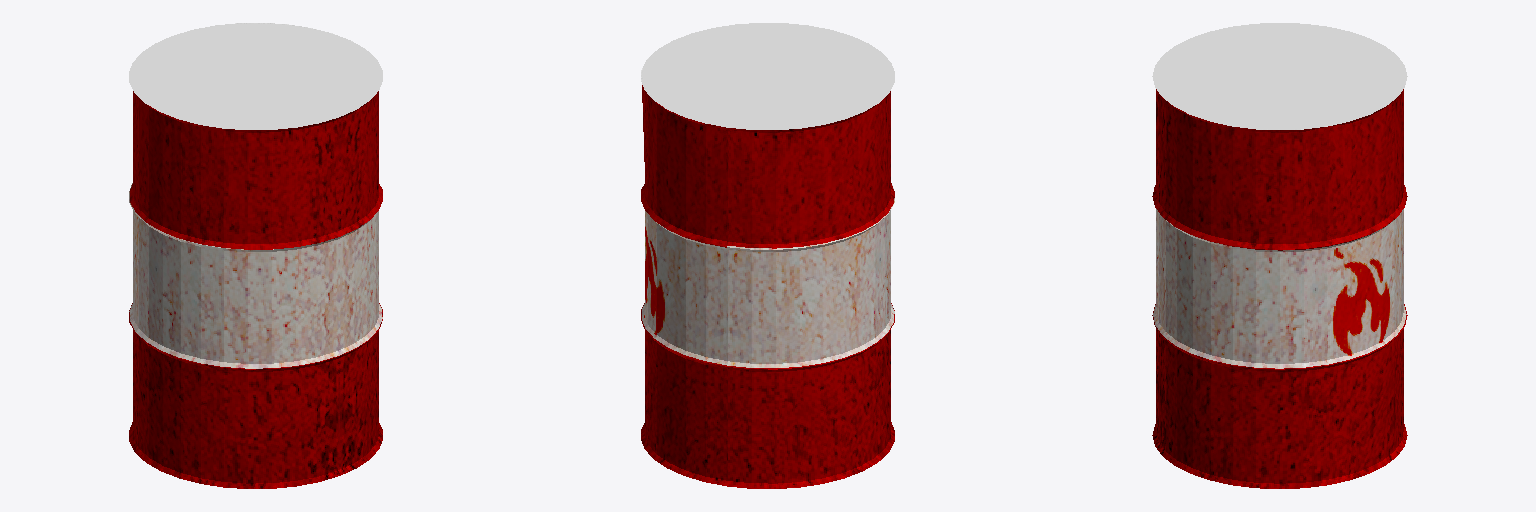
3 views of the same model, side by side, from view 1: azimuth 30°, elevation 25°; view 2: azimuth 150°, elevation 25°; view 3: azimuth 270°, elevation 25° (orthographic).
Parts seen in each view (by area): view 1: Cylinder; view 2: Cylinder; view 3: Cylinder.
Boxes of the visible parts, x1,y1,x2,y2 form: Cylinder: [129, 23, 382, 488]; Cylinder: [641, 23, 894, 488]; Cylinder: [1152, 23, 1407, 488].
Bounding box in the file's own units: 0.5155 × 0.8 × 0.5155.
1 materials, 1 textured.